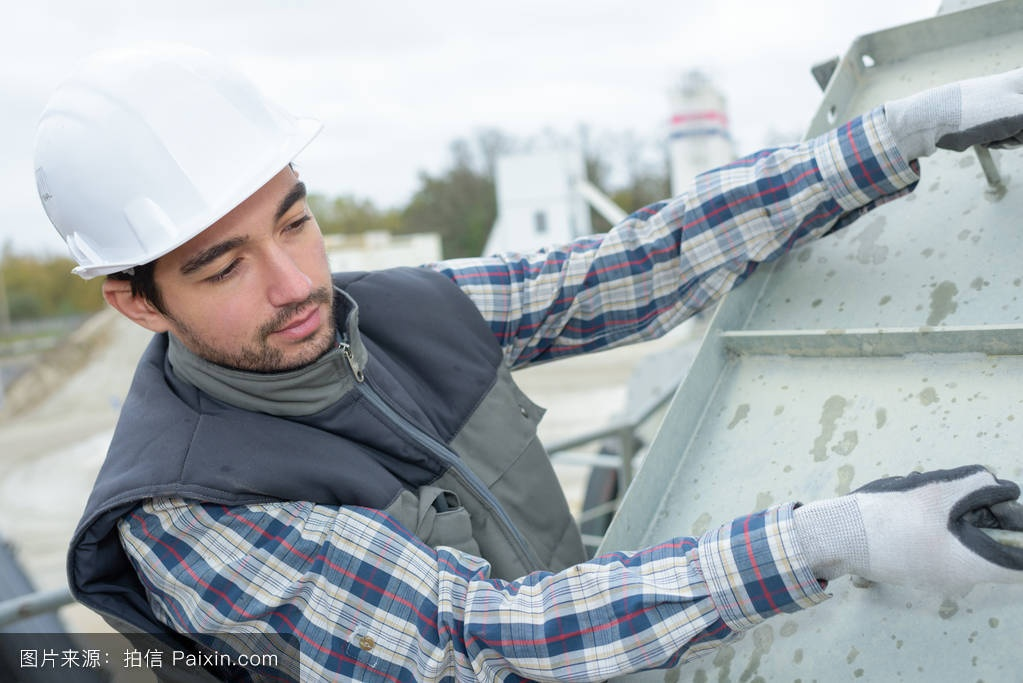white: (35, 50, 349, 378)
